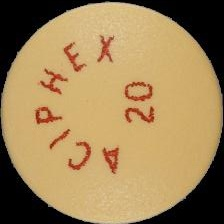68151-3834: (0, 0, 224, 224)
